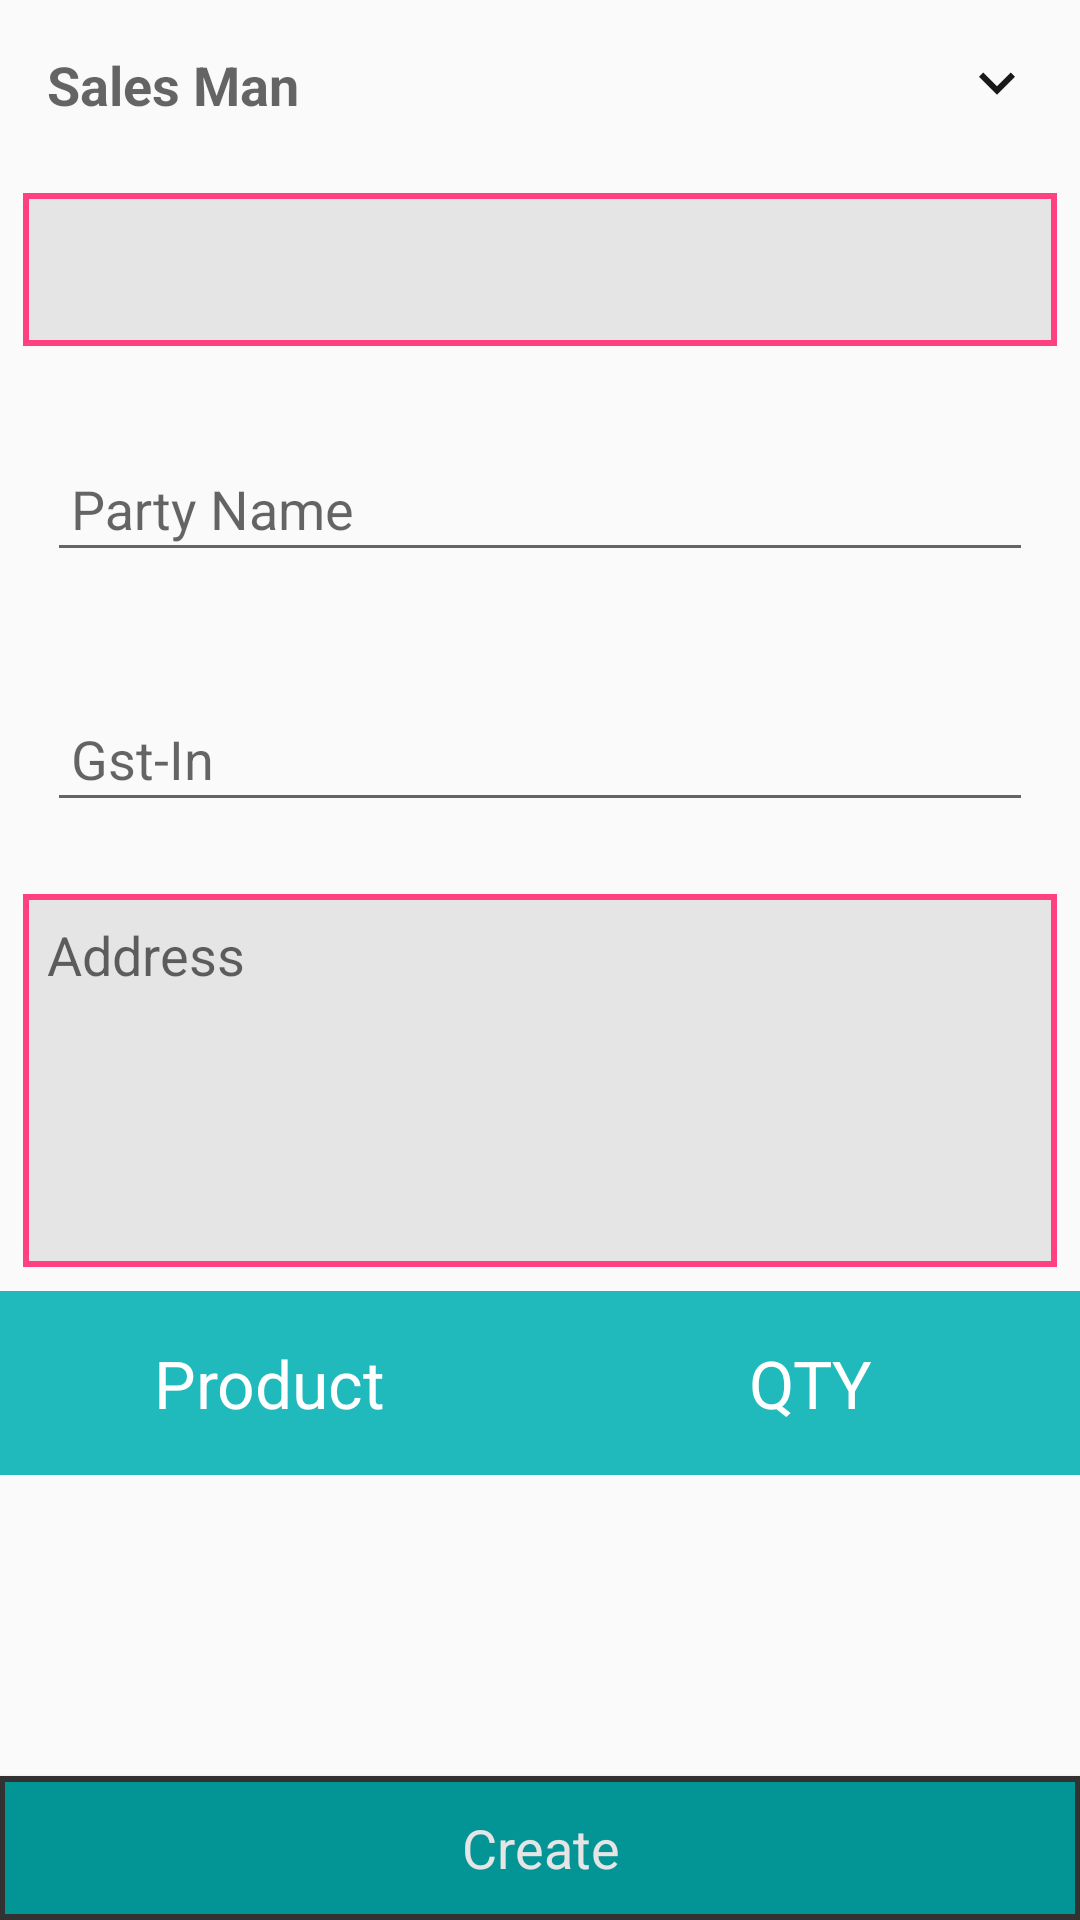

Where to tap for icons on this 1080px x 1920px app screen, as (x,y):
arrow down: (997,83)
